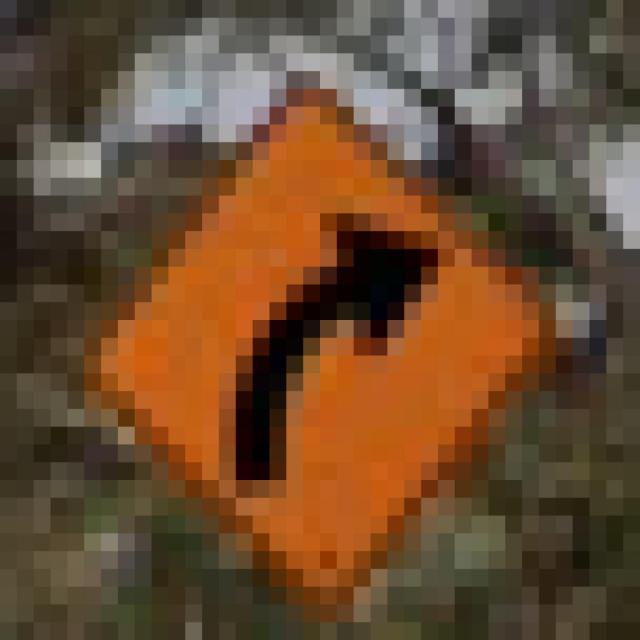Tikungan Ke Kanan: (50, 36, 539, 604)
